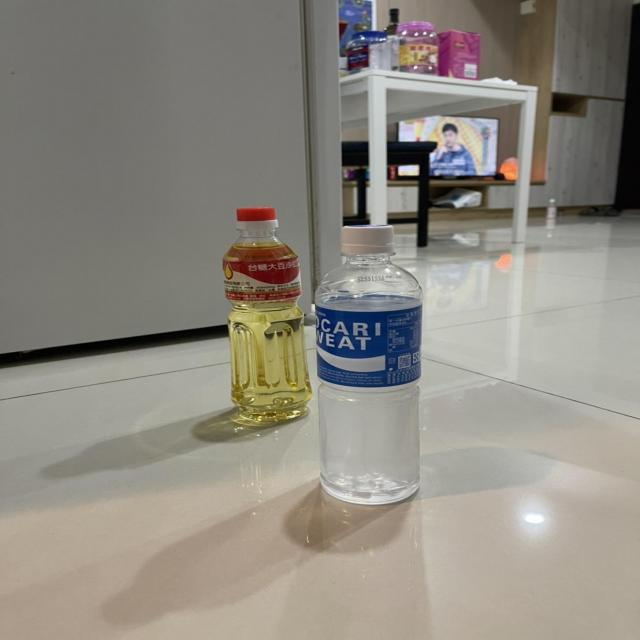bottle: (312, 228, 436, 512), (211, 200, 315, 445)
